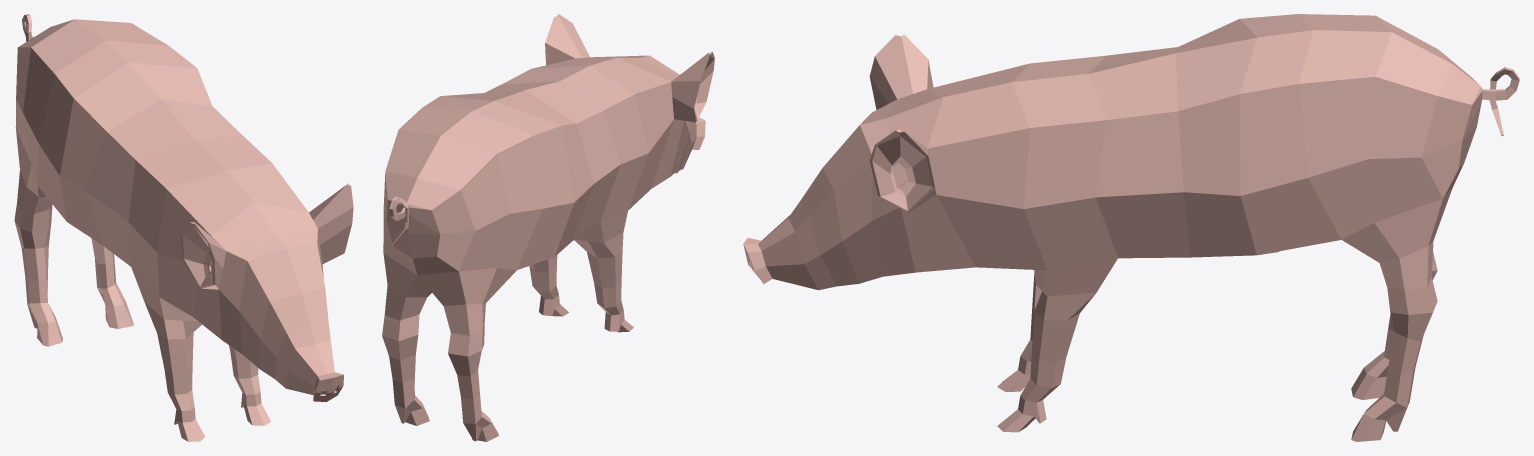
The model's file is pigsleep (1).fbx.
3 renders of one model, left to right at view 1: azimuth 30°, elevation 25°; view 2: azimuth 150°, elevation 25°; view 3: azimuth 270°, elevation 25°, orthographic. The views are drawn at different scales.
Parts seen in each view (by area): view 1: pig01.001; view 2: pig01.001; view 3: pig01.001.
Part boxes in pixels (x1,y1,x2,y2): pig01.001: (14, 14, 353, 441); pig01.001: (382, 14, 714, 441); pig01.001: (743, 14, 1519, 441).
Size of the model in its own units: 36.9 by 68.1 by 125.
